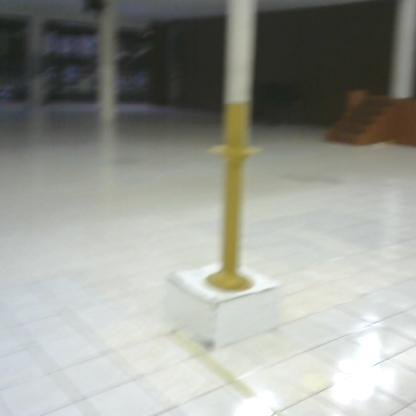pole: (202, 96, 266, 300)
